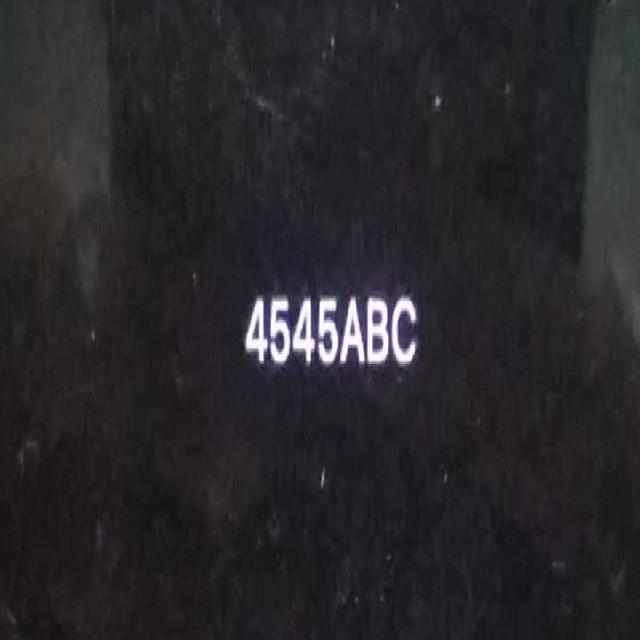license_plate: (231, 281, 426, 399)
